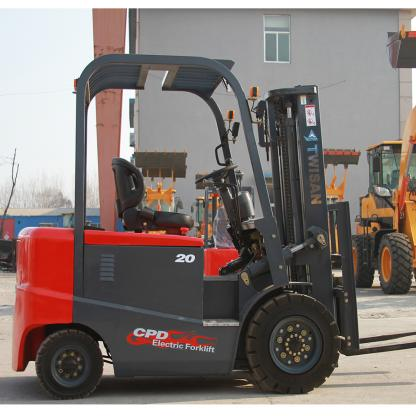forklift: (10, 52, 360, 401)
